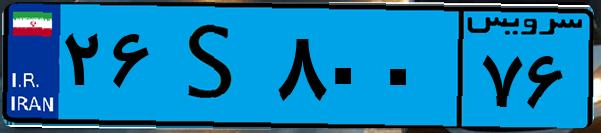0: (385, 28, 445, 110), (330, 28, 385, 110)
2: (57, 26, 110, 100)
6: (525, 38, 570, 115), (110, 28, 158, 98)
7: (475, 38, 525, 113)
8: (270, 28, 330, 110)
S: (158, 12, 270, 120)
